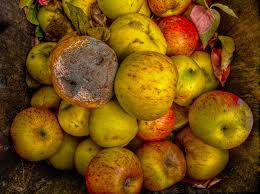damaged_apple: (52, 38, 116, 108), (115, 50, 177, 117), (185, 92, 254, 152), (80, 145, 145, 192), (109, 15, 169, 64), (140, 138, 188, 187)
